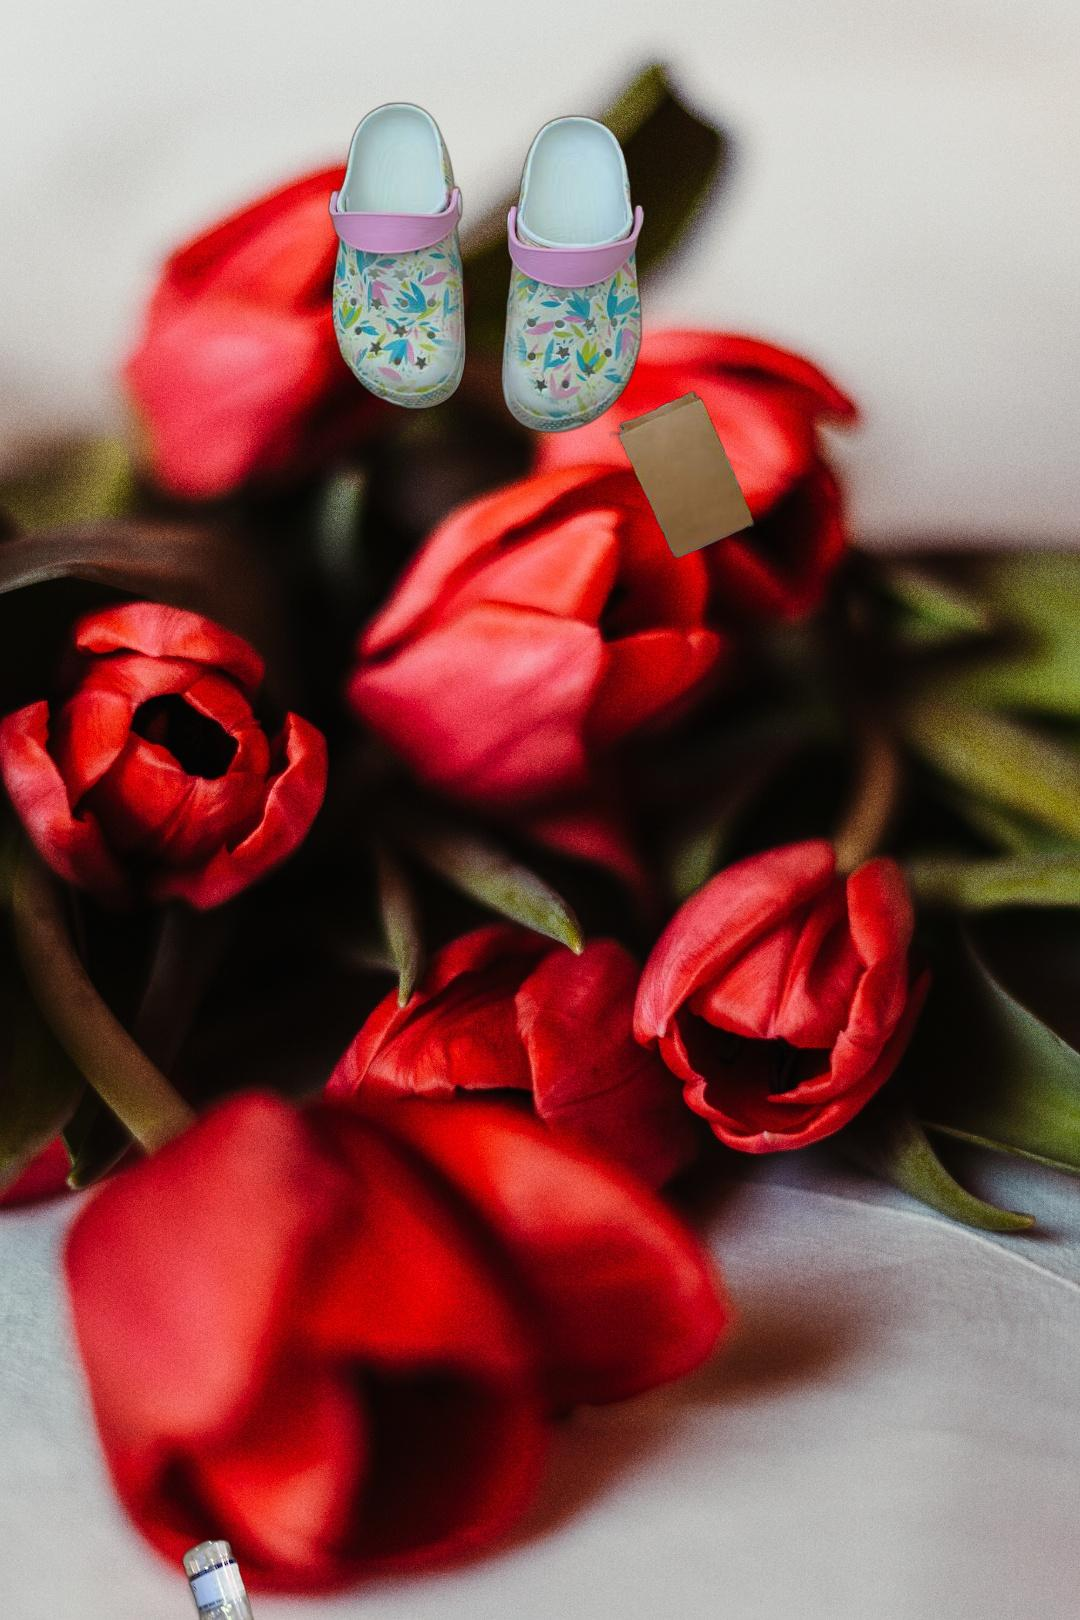paper-bag: (605, 389, 758, 562)
plastic-bottles: (43, 1534, 258, 1620)
shoes: (325, 98, 655, 438)
